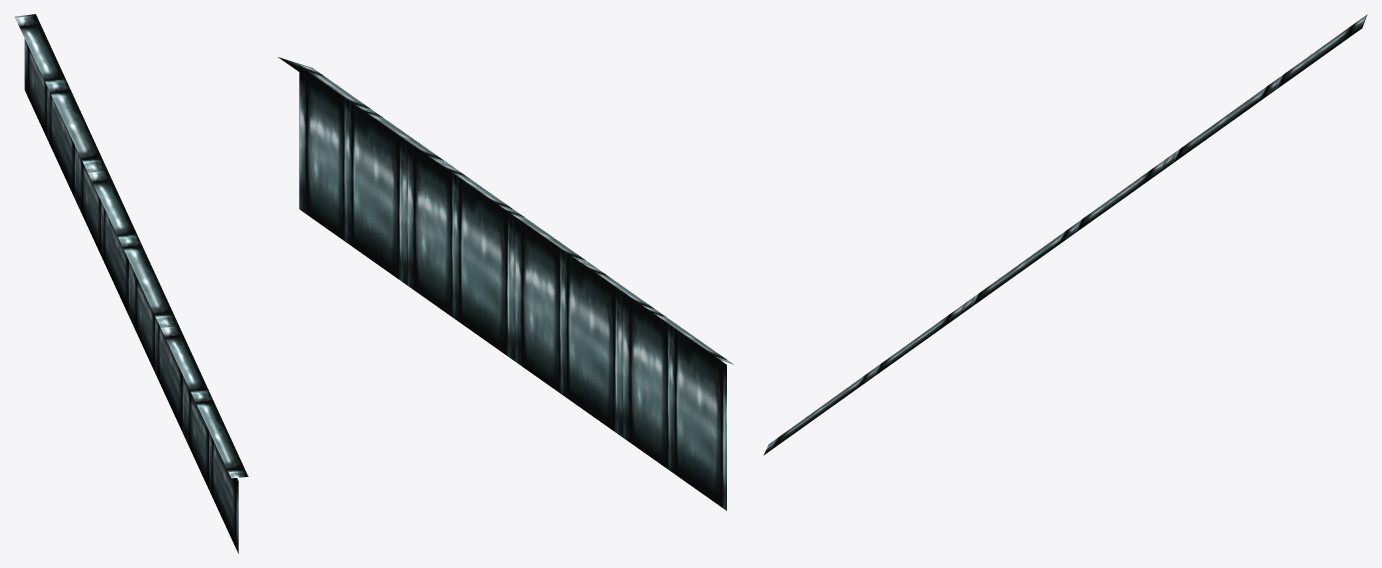
Rendered from TTreppeGeländer [Rohr]_815.glb.
The picture shows the model from 3 angles, left to right: view 1: azimuth 30°, elevation 25°; view 2: azimuth 150°, elevation 25°; view 3: azimuth 270°, elevation 25°; orthographic projection. The views are drawn at different scales.
Parts seen in each view (by area): view 1: pPlaneShape1, pPlaneShape6; view 2: pPlaneShape1, pPlaneShape6; view 3: pPlaneShape6.
Boxes of the visible parts, x1,y1,x2,y2 form: pPlaneShape1: (24, 39, 238, 553); pPlaneShape6: (15, 14, 248, 478); pPlaneShape1: (299, 66, 726, 510); pPlaneShape6: (278, 57, 733, 364); pPlaneShape6: (763, 14, 1367, 455).
Size of the model in its own units: 0.0264 by 0.493 by 0.5055.
Materials: 2 (2 with a texture image).
